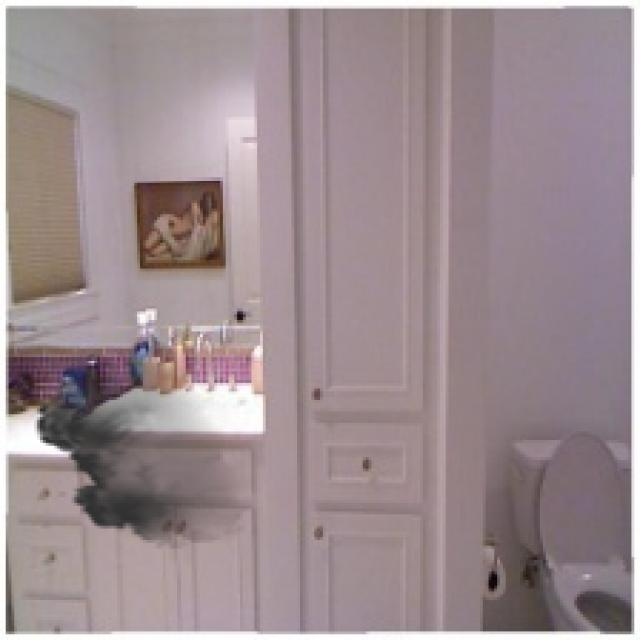smoke: (26, 328, 260, 548)
